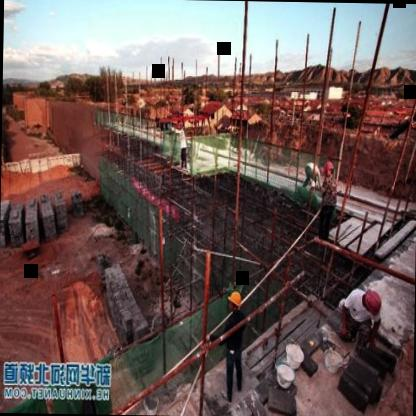helmet: (360, 288, 382, 318), (227, 288, 242, 314), (323, 156, 333, 180)
